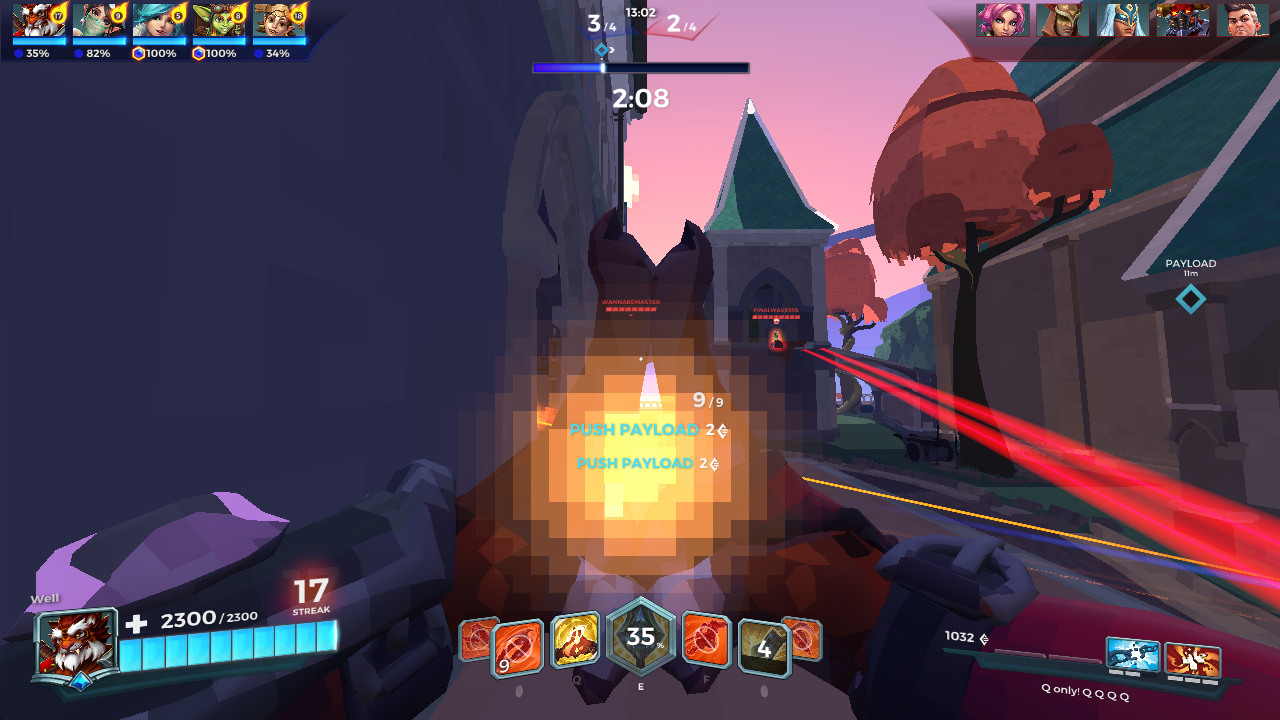model: (764, 327, 786, 351)
